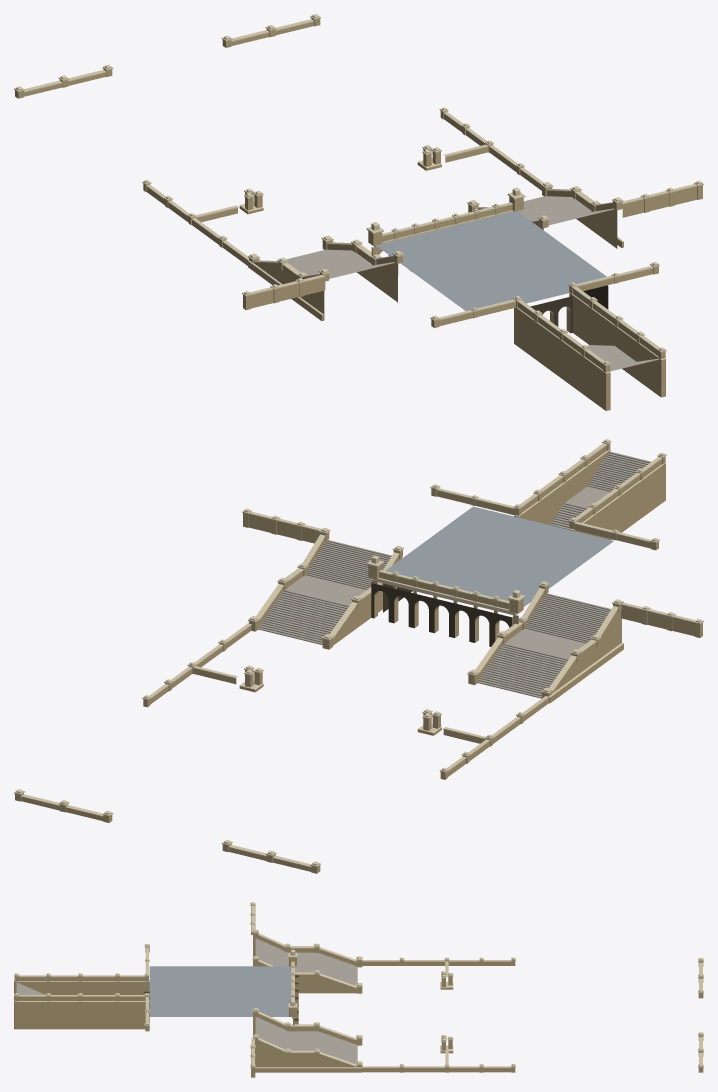
Rendered from nyc-bethesda-terrace.glb.
3 renders of one model, top to bottom at view 1: azimuth 30°, elevation 25°; view 2: azimuth 150°, elevation 25°; view 3: azimuth 270°, elevation 25°, orthographic. The views are drawn at different scales.
Parts seen in each view (by area): view 1: Bethesda Terrace; view 2: Bethesda Terrace; view 3: Bethesda Terrace.
Part boxes in pixels (x1,y1,x2,y2): Bethesda Terrace: (14,14,703,410); Bethesda Terrace: (14,439,703,873); Bethesda Terrace: (14,902,703,1077).
Size of the model in its own units: 73 by 8.9 by 130.
